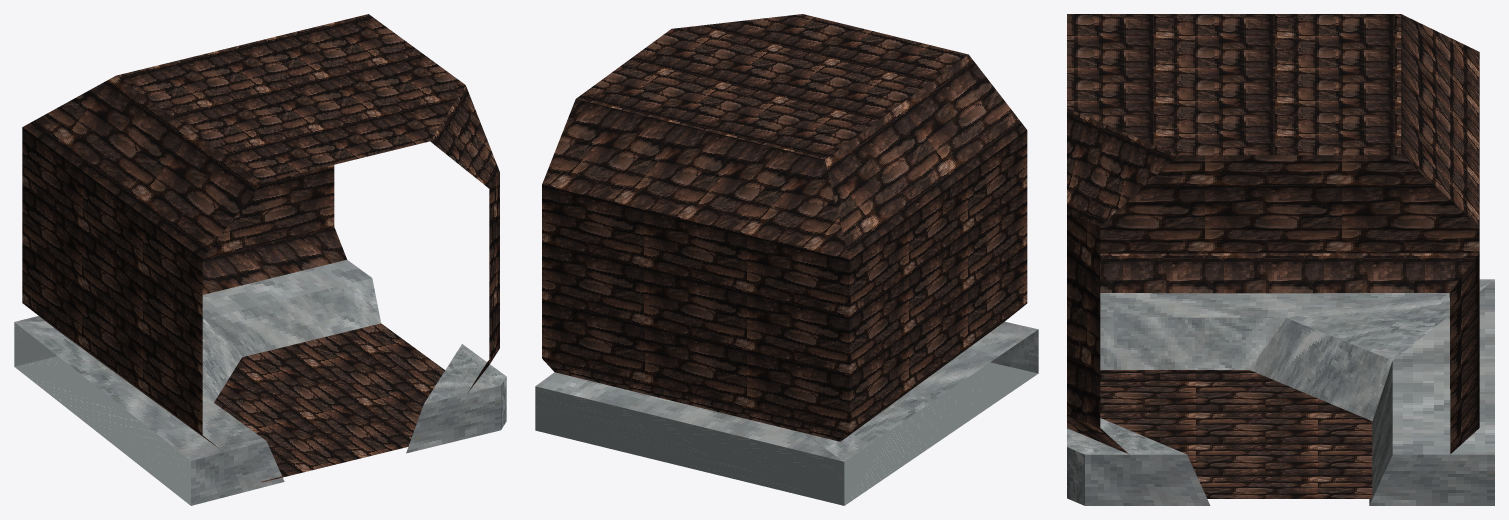
File: Pipe2.glb
3 views of the same model, side by side, from view 1: azimuth 30°, elevation 25°; view 2: azimuth 150°, elevation 25°; view 3: azimuth 270°, elevation 25° (orthographic). The views are drawn at different scales.
Visible parts, largest first — view 1: Plane.006; view 2: Plane.006; view 3: Plane.006.
Part boxes in pixels (x1,y1,x2,y2): Plane.006: (14, 14, 506, 505); Plane.006: (535, 14, 1038, 505); Plane.006: (1067, 14, 1494, 505).
Bounding box in the file's own units: 3.84 × 3.47 × 3.84.
Materials: 2 (2 with a texture image).
